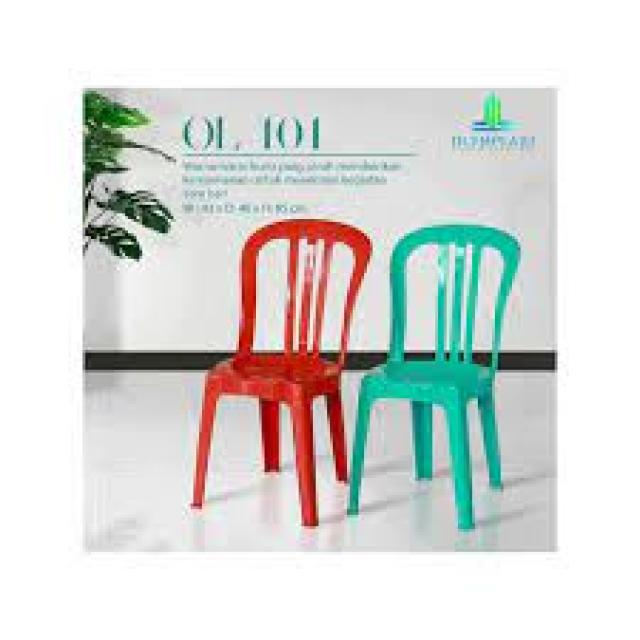chair: (178, 197, 360, 538), (344, 186, 522, 531)
